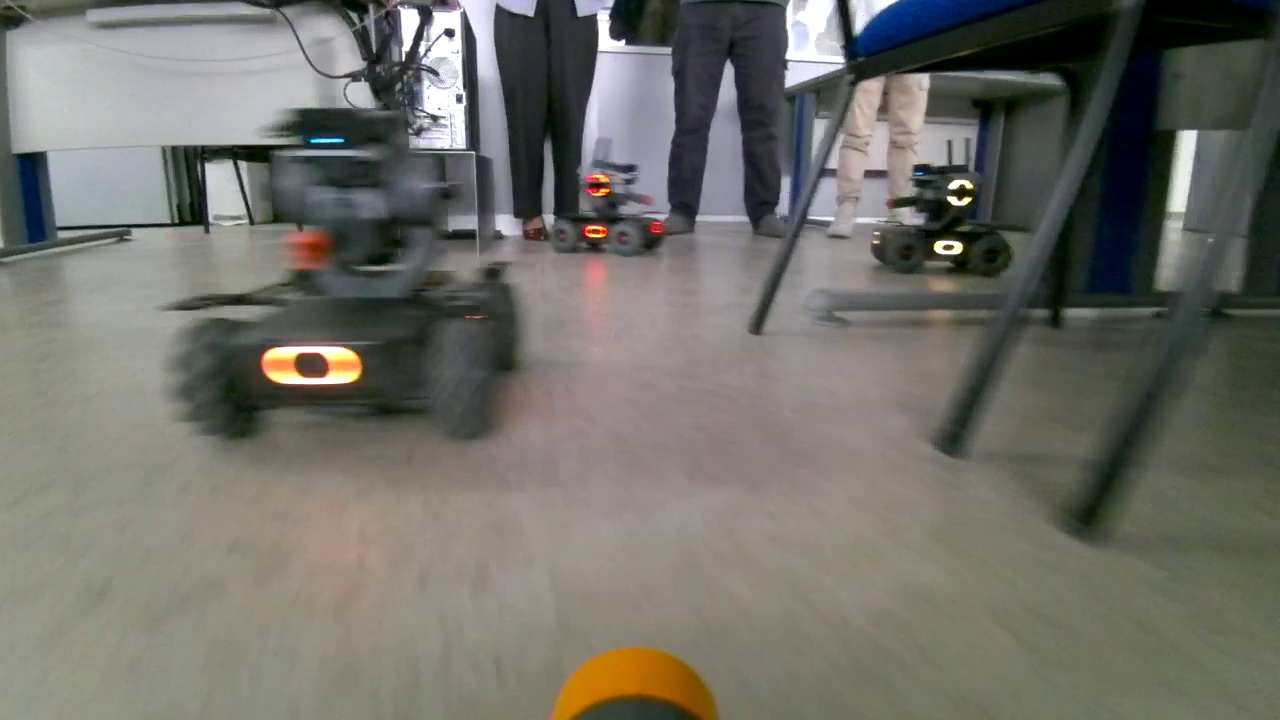robot: (173, 54, 524, 440), (866, 140, 1022, 287), (538, 137, 677, 260)
